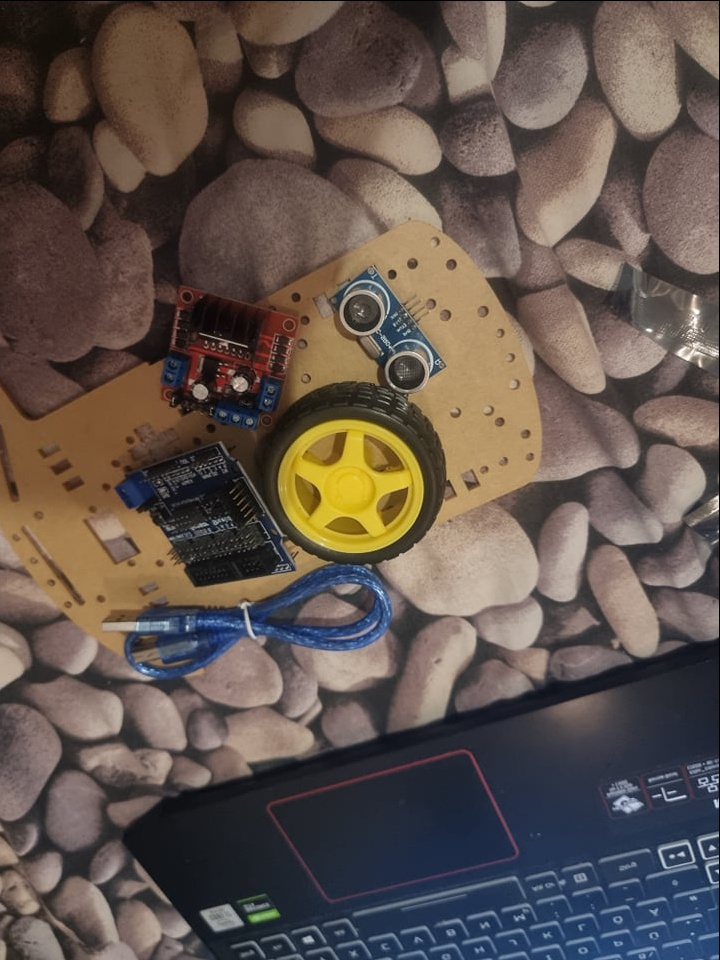5V EXPANSION: (116, 437, 298, 585)
MOTOR: (157, 287, 298, 421)
SENSOR: (334, 262, 443, 396)
